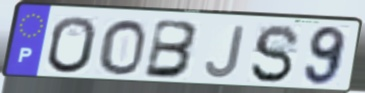9: (304, 24, 351, 89)
B: (141, 17, 201, 80)
J: (203, 24, 248, 80)
O: (46, 14, 99, 76), (97, 17, 148, 77)
S: (248, 23, 302, 86)
